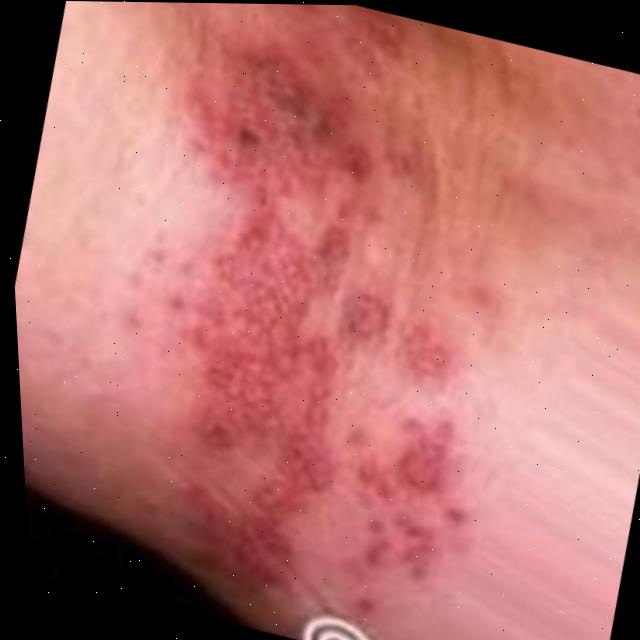Shingles: (85, 24, 572, 640)
